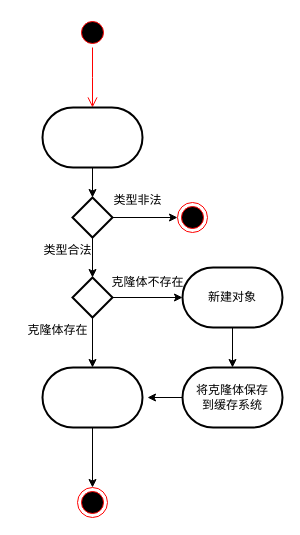
Image size: 300x535. Some labels were removed from this diagram. The box of each missing label's shape, as (x1, y1, x2, y2) in pixels:
获取可克隆对象: (41, 106, 143, 168)
返回对象: (41, 366, 143, 428)
